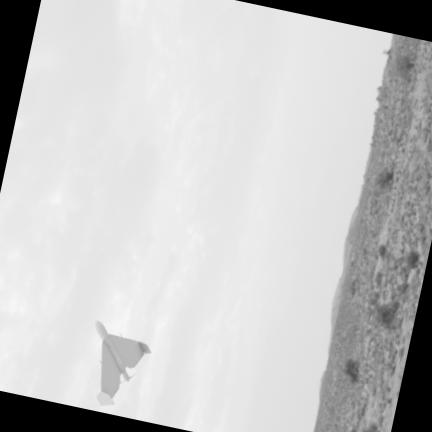Shahed: (96, 320, 151, 404)
